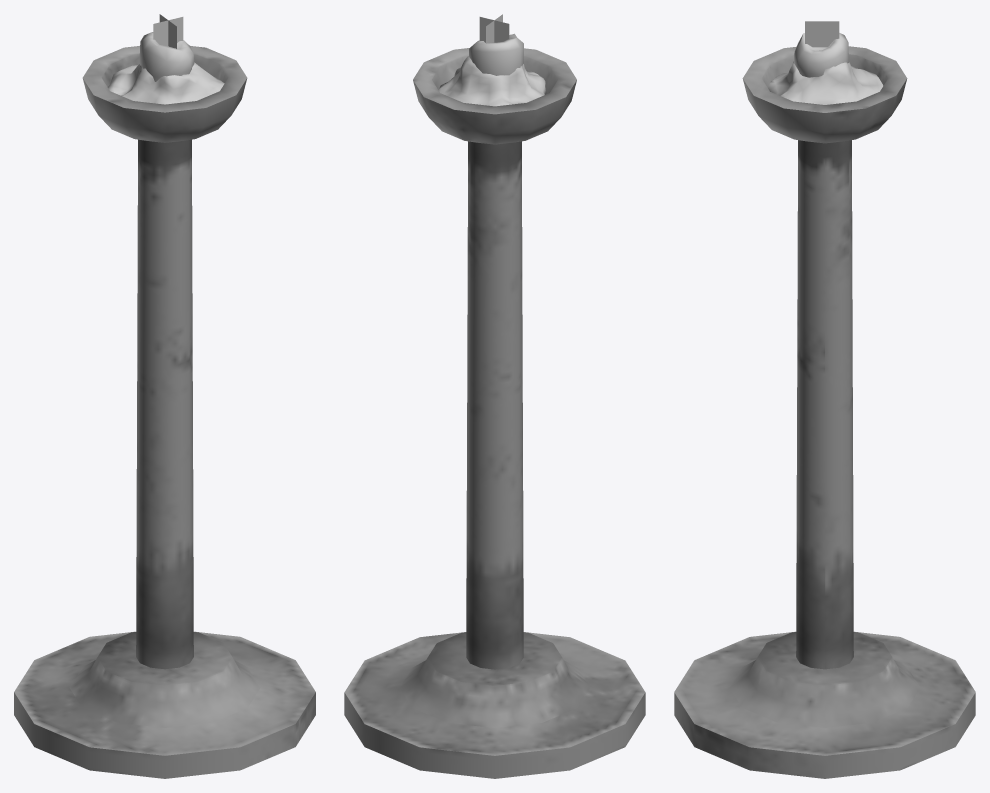
Rendered from SM_candlestick_02.fbx.
3 views of the same model, side by side, from view 1: azimuth 30°, elevation 25°; view 2: azimuth 150°, elevation 25°; view 3: azimuth 270°, elevation 25° (orthographic).
Parts seen in each view (by area): view 1: SM_candlestick_02_LOD0; view 2: SM_candlestick_02_LOD0; view 3: SM_candlestick_02_LOD0.
Part boxes in pixels (left/top/right/bottom): SM_candlestick_02_LOD0: left=14, top=14, right=315, bottom=778; SM_candlestick_02_LOD0: left=344, top=14, right=645, bottom=778; SM_candlestick_02_LOD0: left=674, top=21, right=975, bottom=778.
Size of the model in its own units: 17.67 by 17.67 by 44.91.
